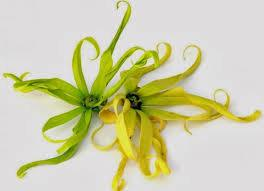ylang-ylang: (59, 43, 186, 154)
